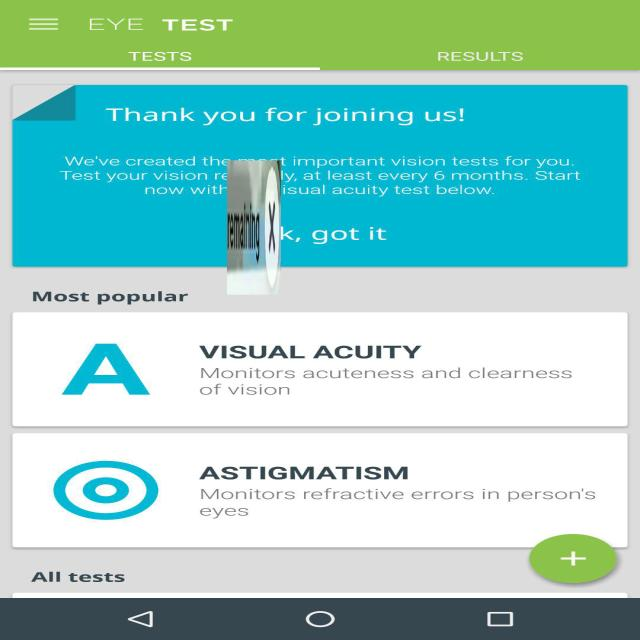misdirection: (227, 160, 281, 295)
